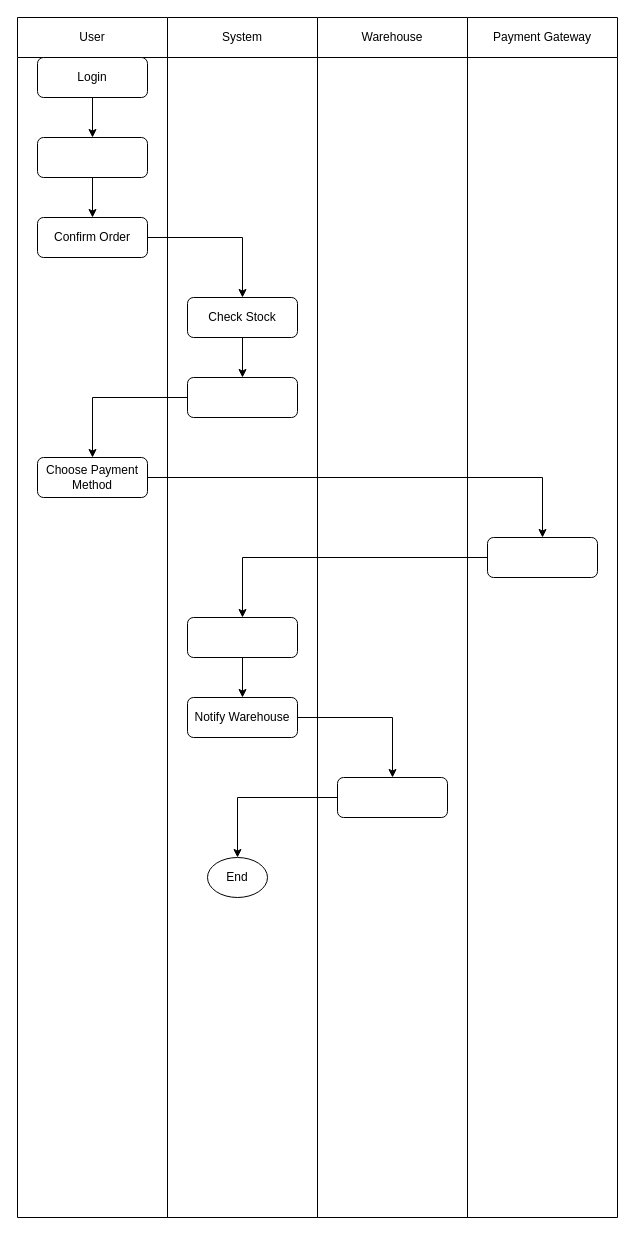
Some shapes in this 635 by 1235 pixel diagram are drawn without their labels. The shapes that lost their labels are listed below. From the top down, each one's centre as x and y in pixels, then its label:
At point (92, 157): "Add Items to Cart".
At point (242, 397): "Notify User".
At point (542, 557): "Process Payment".
At point (242, 637): "Send Payment Confirmation".
At point (392, 797): "Assemble Order".
